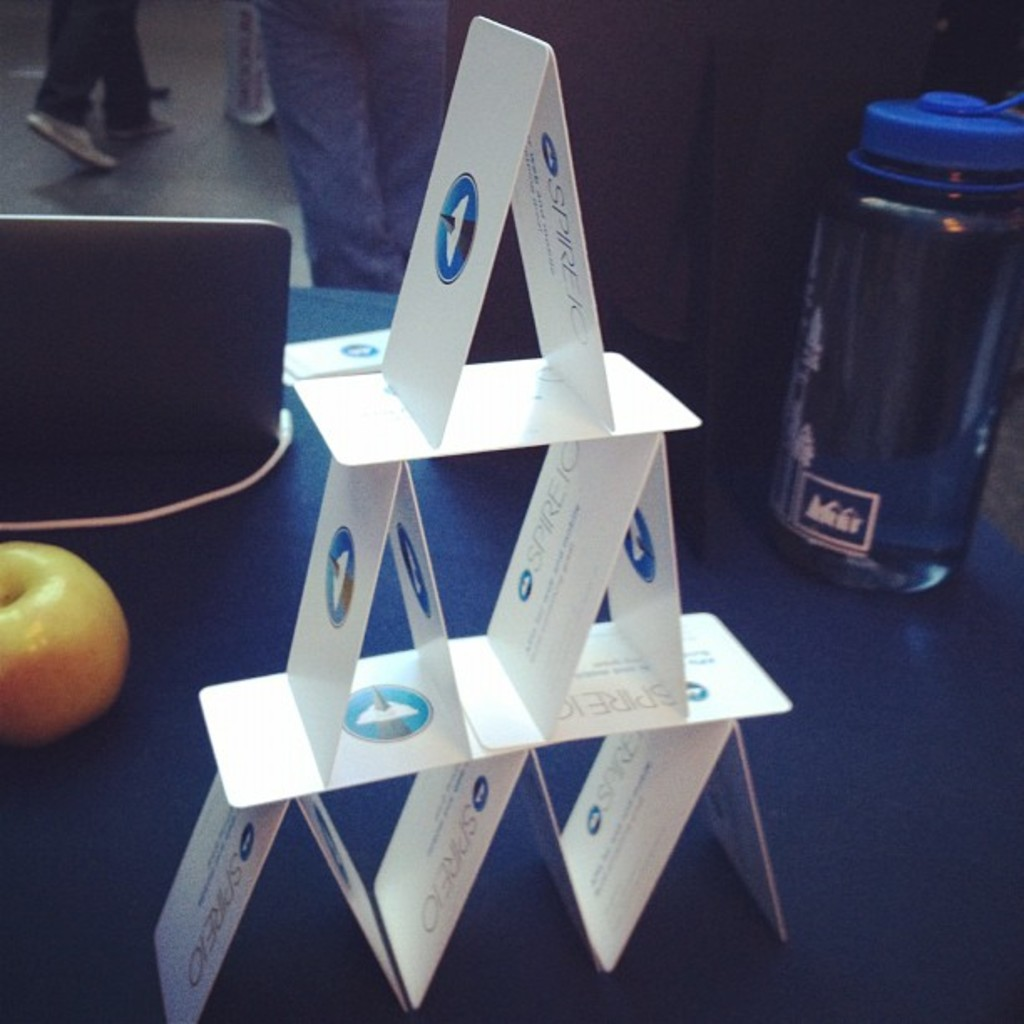Apple: (0, 553, 145, 752)
